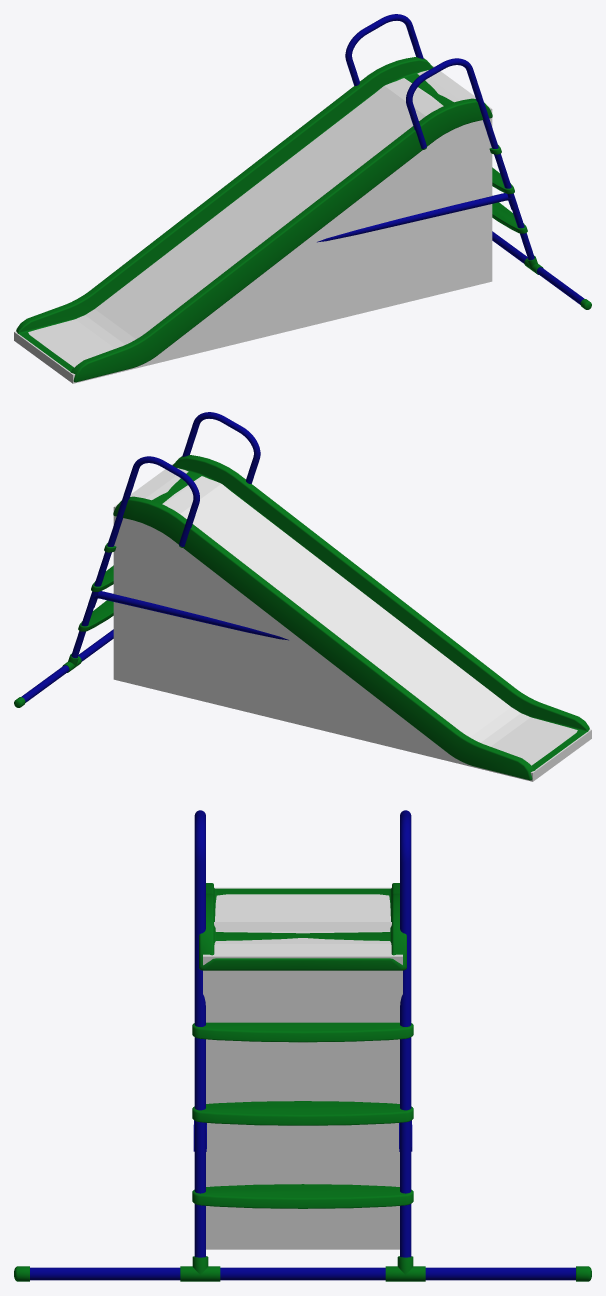
The model's file is kids-garden-slide.fbx.
The picture shows the model from 3 angles, top to bottom: view 1: azimuth 30°, elevation 25°; view 2: azimuth 150°, elevation 25°; view 3: azimuth 270°, elevation 25°; orthographic projection. The views are drawn at different scales.
Parts seen in each view (by area): view 1: Kids Garden Slide.002, Kids Garden Slide.001; view 2: Kids Garden Slide.002, Kids Garden Slide.001; view 3: Kids Garden Slide.002, Kids Garden Slide.001.
Boxes of the visible parts, x1,y1,x2,y2 form: Kids Garden Slide.002: (14, 65, 492, 383); Kids Garden Slide.001: (16, 14, 591, 382); Kids Garden Slide.002: (113, 463, 591, 781); Kids Garden Slide.001: (14, 412, 589, 780); Kids Garden Slide.002: (203, 887, 402, 1249); Kids Garden Slide.001: (14, 810, 591, 1281).
Bounding box in the file's own units: 369 × 177 × 234.
